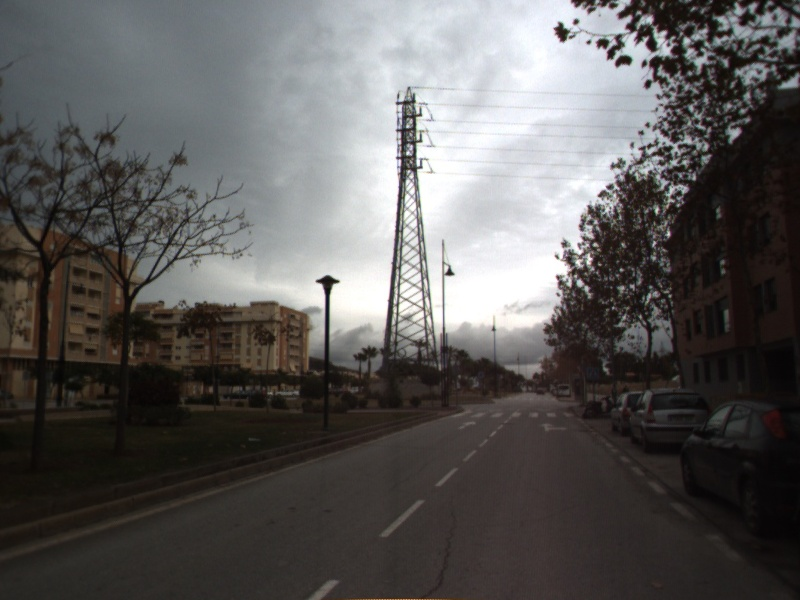STRAIGHT: (455, 419, 479, 431)
STRAIGHT_RIGHT: (536, 420, 570, 434)
